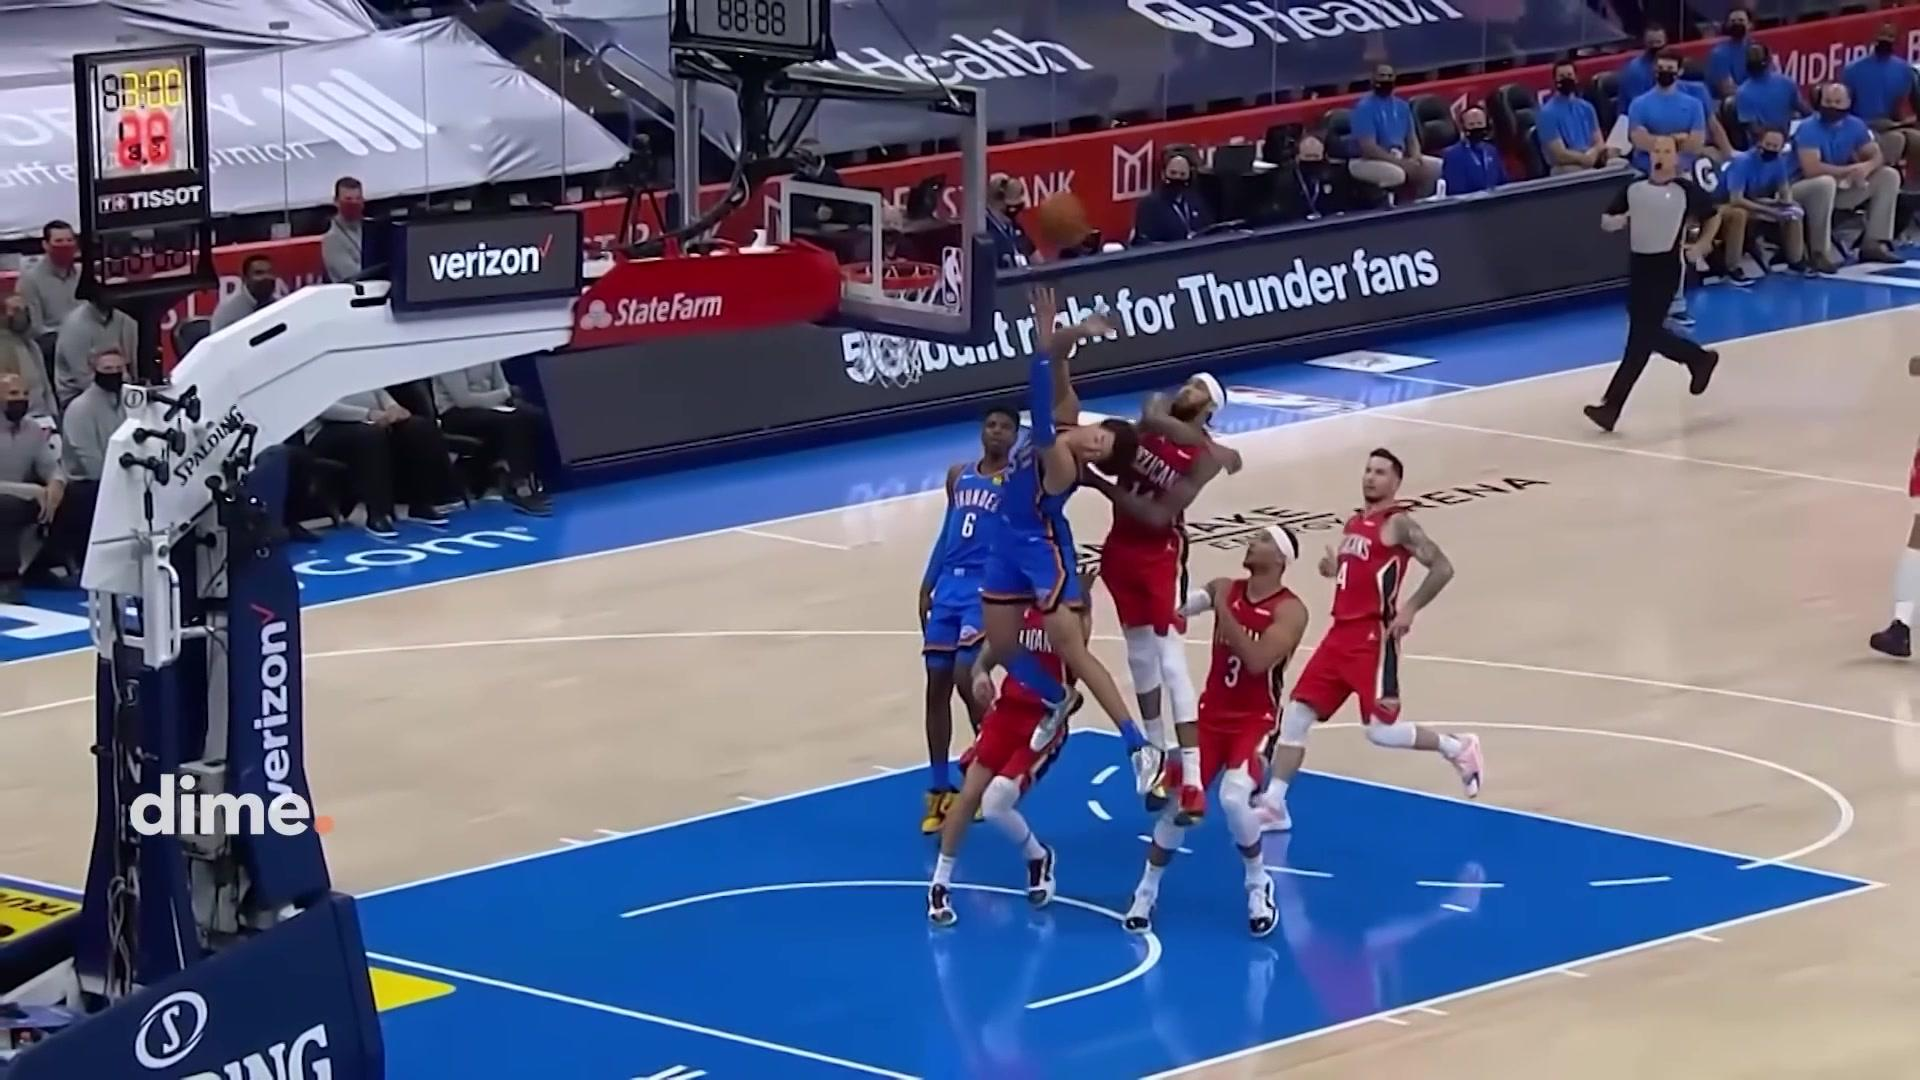foul: (949, 309, 1229, 771)
